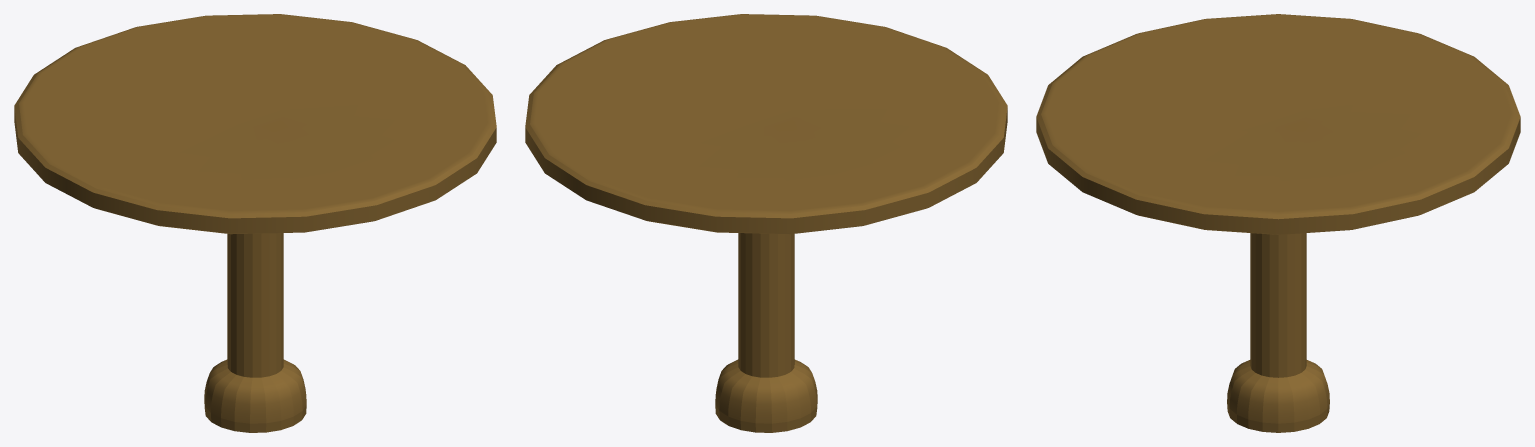
File: table.fbx
3 renders of one model, left to right at view 1: azimuth 30°, elevation 25°; view 2: azimuth 150°, elevation 25°; view 3: azimuth 270°, elevation 25°, orthographic.
Visible parts, largest first — view 1: table; view 2: table; view 3: table.
Part boxes in pixels (bbox=[...]): table: bbox=[14, 14, 496, 432]; table: bbox=[525, 14, 1007, 432]; table: bbox=[1036, 14, 1520, 432].
Size of the model in its own units: 1.69 by 1.15 by 1.69.
